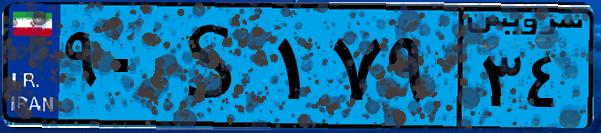0: (110, 28, 158, 98)
1: (270, 28, 330, 110)
3: (475, 38, 525, 113)
4: (525, 38, 570, 115)
7: (330, 28, 385, 110)
9: (385, 28, 445, 110), (57, 26, 110, 100)
S: (158, 12, 270, 120)
